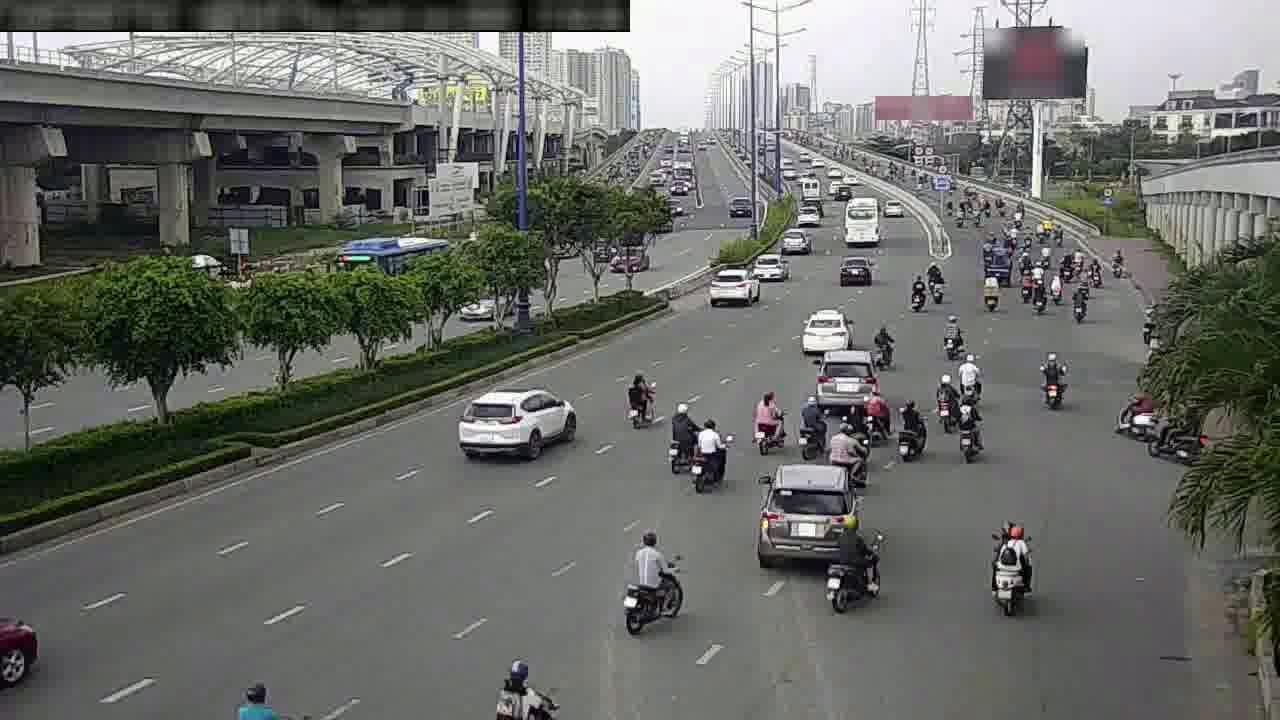container: (438, 380, 586, 469), (745, 463, 862, 558), (801, 336, 891, 414), (818, 252, 888, 298), (706, 260, 760, 310), (741, 240, 791, 289), (769, 230, 808, 252)
motorbike: (969, 508, 1044, 615), (822, 502, 889, 610), (621, 536, 686, 627), (888, 402, 946, 479), (685, 410, 729, 484), (1038, 345, 1082, 416), (741, 377, 780, 452), (924, 374, 963, 439), (657, 398, 694, 464), (820, 426, 864, 479), (926, 265, 967, 317), (782, 391, 814, 451), (615, 369, 659, 410), (950, 395, 981, 452), (927, 309, 969, 350), (1024, 276, 1057, 325), (975, 273, 1005, 322), (1068, 275, 1092, 325), (901, 272, 927, 316), (958, 357, 984, 394)
